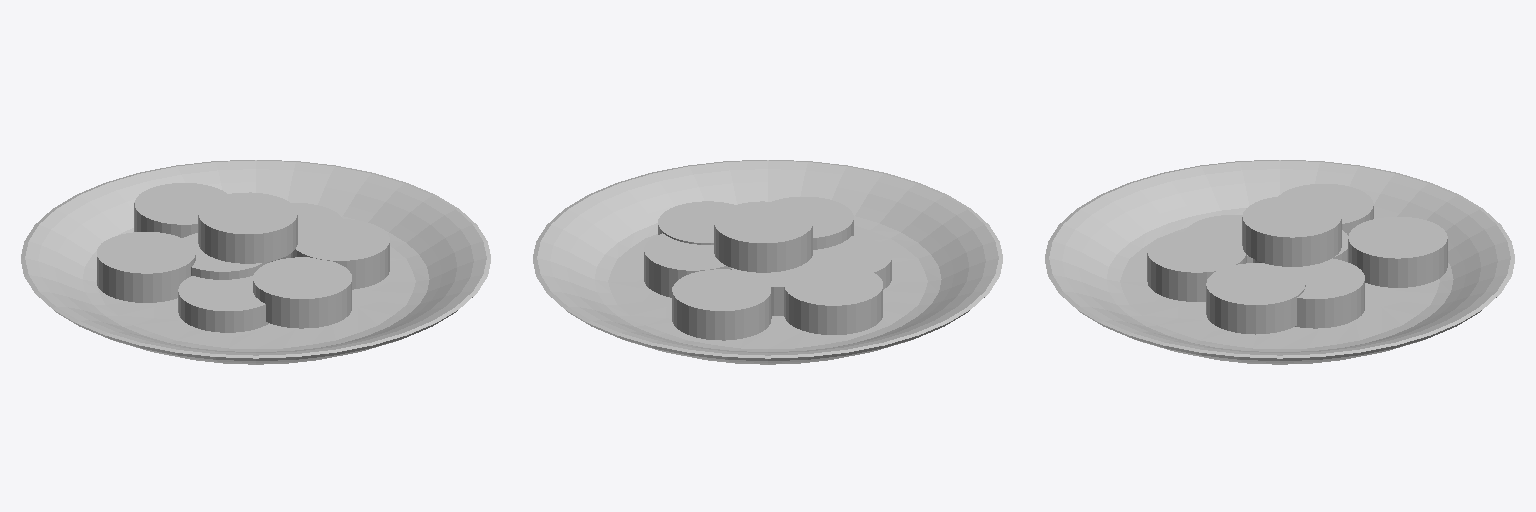
Rendered from kue bakpia.obj.
The picture shows the model from 3 angles: view 1: azimuth 30°, elevation 25°; view 2: azimuth 150°, elevation 25°; view 3: azimuth 270°, elevation 25°; orthographic projection.
Visible parts, largest first — view 1: Cylinder, Cylinder.003, Cylinder.005, Cylinder.008, Cylinder.004, Cylinder.006, Cylinder.007, Cylinder.002, Cylinder.001; view 2: Cylinder, Cylinder.007, Cylinder.003, Cylinder.008, Cylinder.001, Cylinder.004, Cylinder.005, Cylinder.006, Cylinder.002; view 3: Cylinder, Cylinder.003, Cylinder.007, Cylinder.004, Cylinder.005, Cylinder.001, Cylinder.008, Cylinder.006.
Part boxes in pixels (bbox=[...]): Cylinder: bbox=[21, 160, 490, 364]; Cylinder.003: bbox=[198, 192, 297, 263]; Cylinder.005: bbox=[253, 257, 351, 328]; Cylinder.008: bbox=[97, 232, 195, 302]; Cylinder.004: bbox=[291, 219, 389, 289]; Cylinder.006: bbox=[178, 275, 268, 332]; Cylinder.007: bbox=[134, 183, 226, 237]; Cylinder.002: bbox=[183, 233, 271, 279]; Cylinder.001: bbox=[272, 203, 342, 261]; Cylinder: bbox=[533, 160, 1002, 364]; Cylinder.007: bbox=[672, 269, 771, 340]; Cylinder.003: bbox=[714, 201, 812, 272]; Cylinder.008: bbox=[784, 264, 882, 334]; Cylinder.001: bbox=[644, 233, 730, 297]; Cylinder.004: bbox=[658, 201, 733, 244]; Cylinder.005: bbox=[772, 197, 853, 249]; Cylinder.006: bbox=[814, 236, 891, 289]; Cylinder.002: bbox=[731, 250, 829, 315]; Cylinder: bbox=[1045, 160, 1514, 364]; Cylinder.003: bbox=[1242, 196, 1341, 266]; Cylinder.007: bbox=[1348, 217, 1447, 287]; Cylinder.004: bbox=[1206, 263, 1305, 334]; Cylinder.005: bbox=[1147, 231, 1246, 301]; Cylinder.001: bbox=[1286, 258, 1364, 328]; Cylinder.008: bbox=[1279, 184, 1373, 235]; Cylinder.006: bbox=[1185, 215, 1252, 262].
Size of the model in its own units: 2.31 by 0.4163 by 2.31.